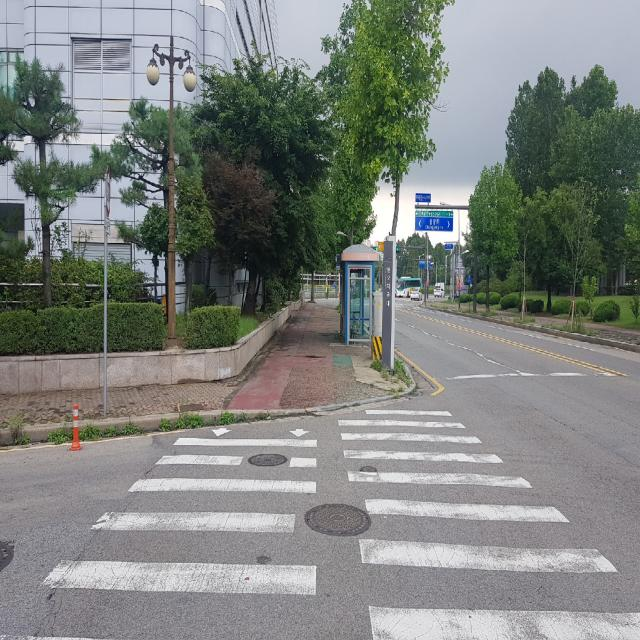횡단보도: (41, 408, 640, 640)
